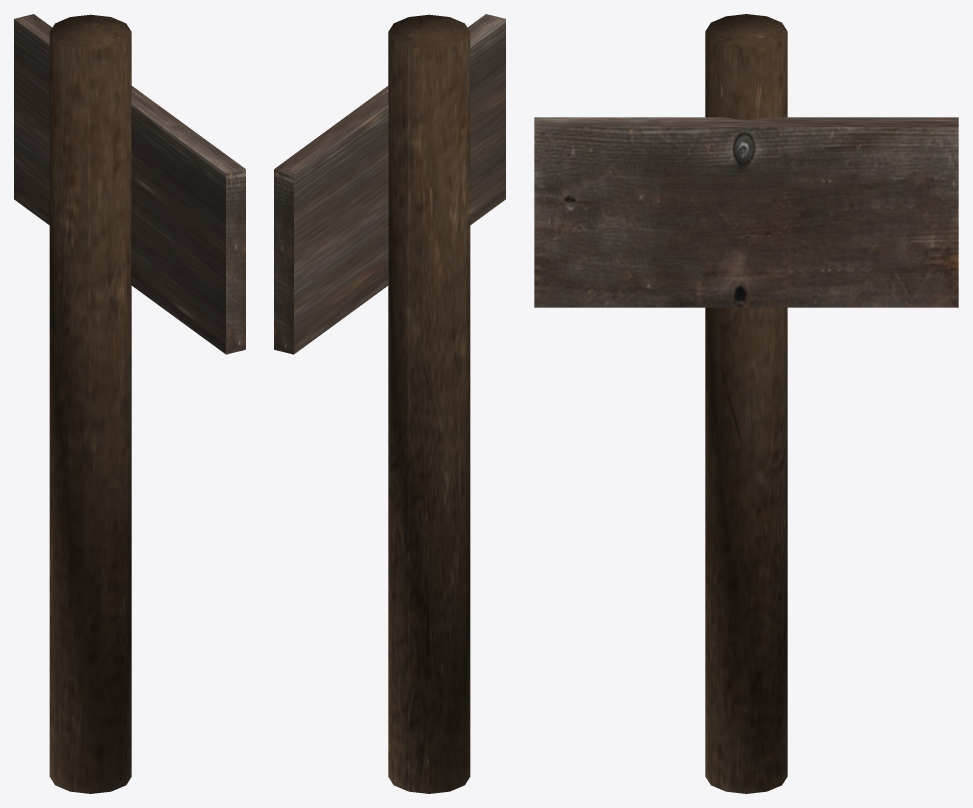
File: TrailSign.fbx
3 views of the same model, side by side, from view 1: azimuth 30°, elevation 25°; view 2: azimuth 150°, elevation 25°; view 3: azimuth 270°, elevation 25° (orthographic).
Parts seen in each view (by area): view 1: Trail Sign; view 2: Trail Sign; view 3: Trail Sign.
Part boxes in pixels (x1,y1,x2,y2): Trail Sign: (14, 14, 245, 793); Trail Sign: (274, 14, 505, 793); Trail Sign: (534, 14, 958, 793).
Size of the model in its own units: 53.26 by 447 by 231.
